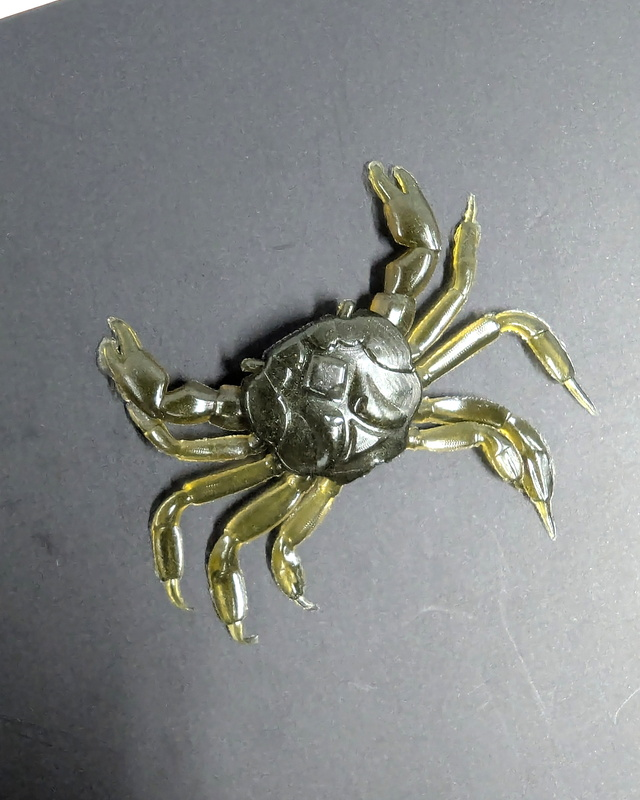crab2: (95, 156, 600, 650)
